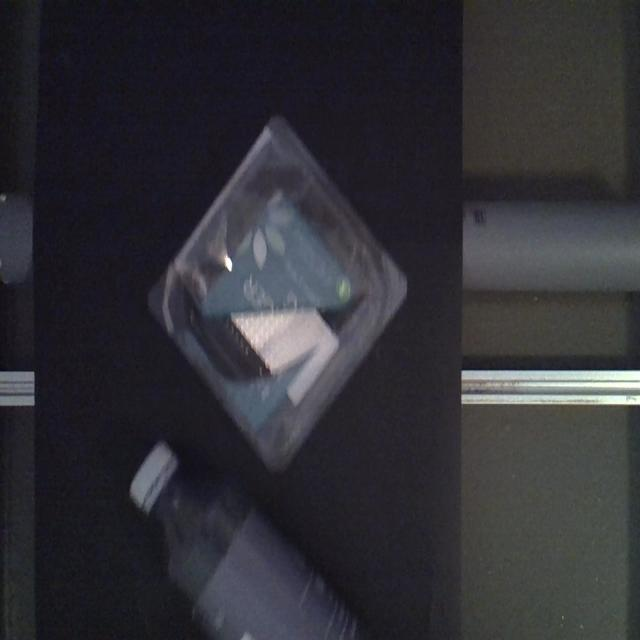bottle-plastic: (128, 442, 380, 640)
mixed-plastics: (146, 109, 410, 475)
